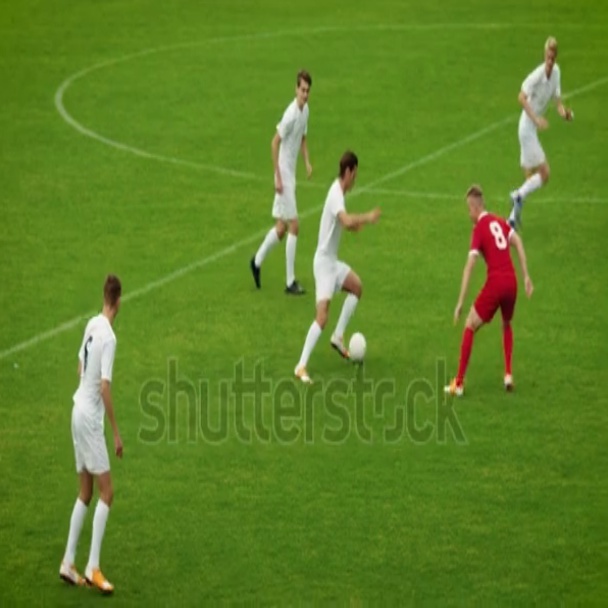ball: (351, 329, 366, 363)
